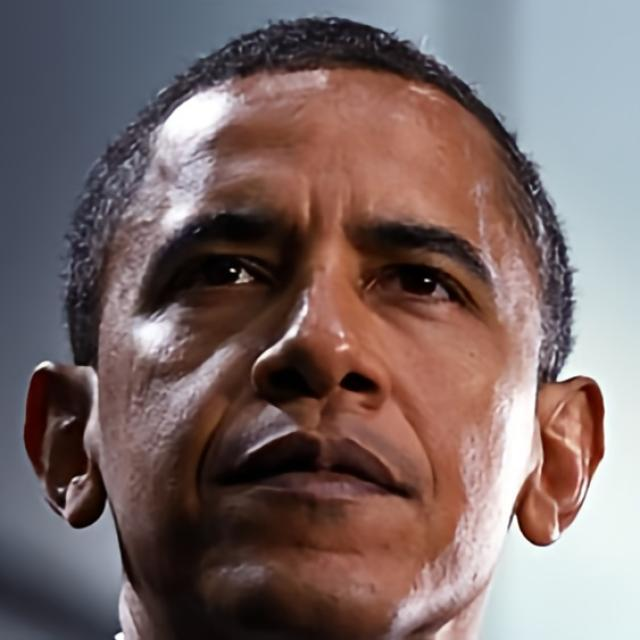anger: (100, 71, 532, 633)
